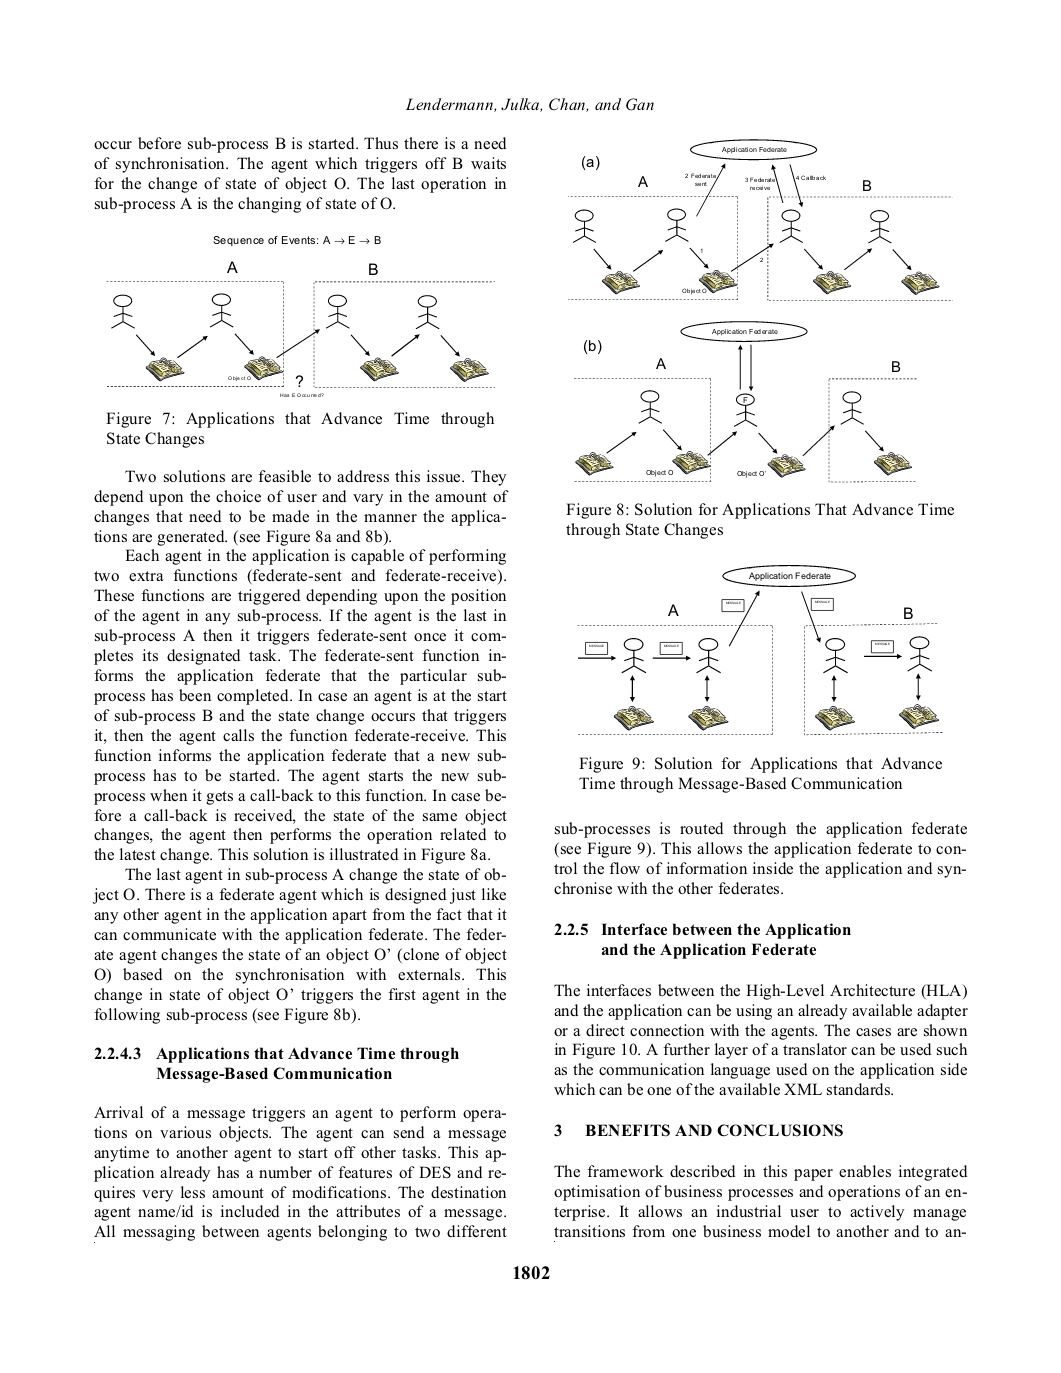figure: (568, 138, 952, 301), (577, 565, 942, 736), (574, 320, 916, 483), (106, 280, 494, 388)
